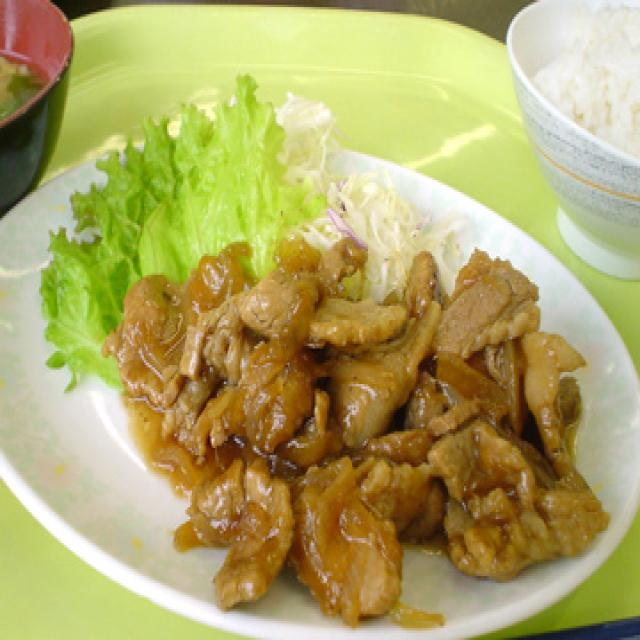猪肉菜式: (112, 227, 608, 640)
